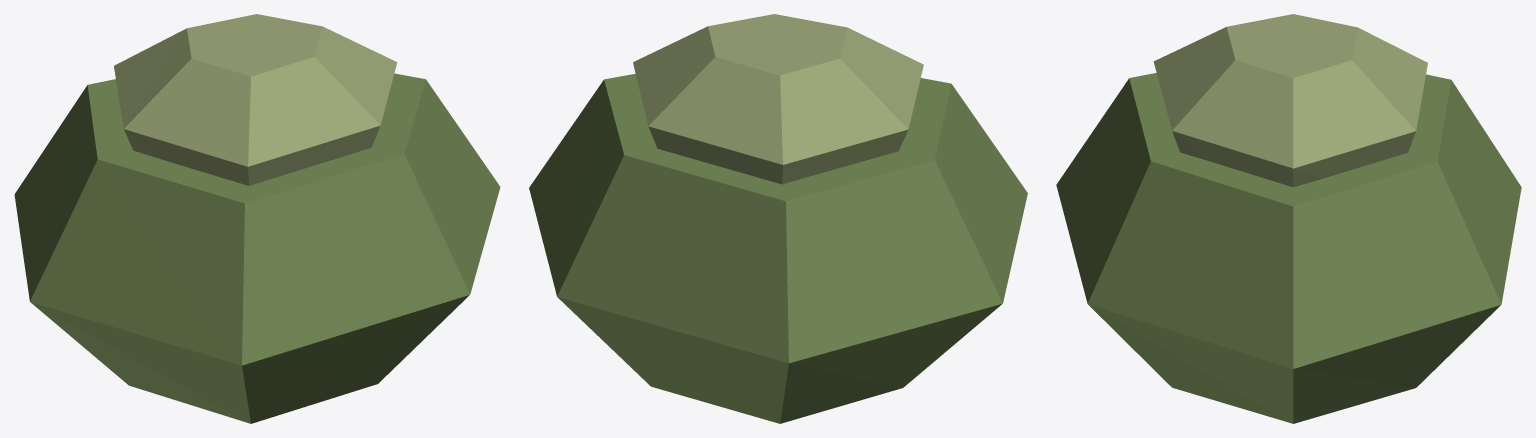
File: cavolo.glb
3 renders of one model, left to right at view 1: azimuth 30°, elevation 25°; view 2: azimuth 150°, elevation 25°; view 3: azimuth 270°, elevation 25°, orthographic.
Bounding box in the file's own units: 0.8213 × 0.52 × 0.7025.
